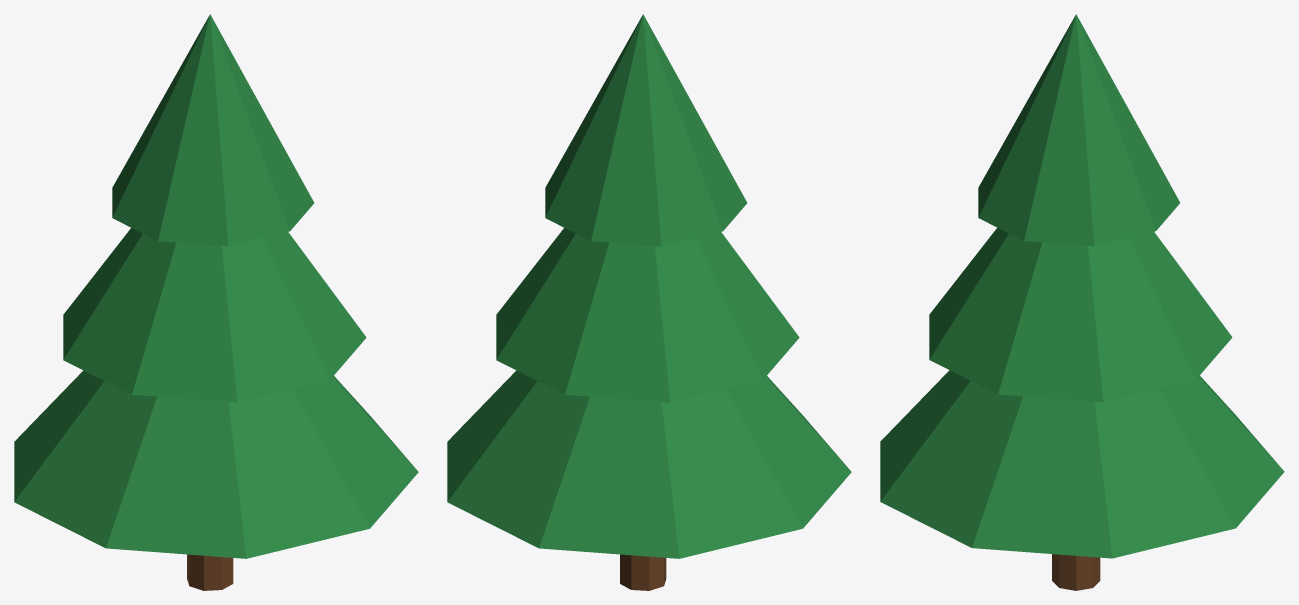
File: pino.glb
The picture shows the model from 3 angles, left to right: view 1: azimuth 30°, elevation 25°; view 2: azimuth 150°, elevation 25°; view 3: azimuth 270°, elevation 25°; orthographic projection.
Parts seen in each view (by area): view 1: HojasPino, TroncoPino; view 2: HojasPino, TroncoPino; view 3: HojasPino, TroncoPino.
Boxes of the visible parts, x1,y1,x2,y2 form: HojasPino: [14, 14, 418, 558]; TroncoPino: [187, 554, 233, 590]; HojasPino: [447, 14, 851, 558]; TroncoPino: [620, 554, 666, 590]; HojasPino: [880, 14, 1284, 558]; TroncoPino: [1052, 554, 1100, 590].
Bounding box in the file's own units: 5.12 × 7.8 × 5.04.
